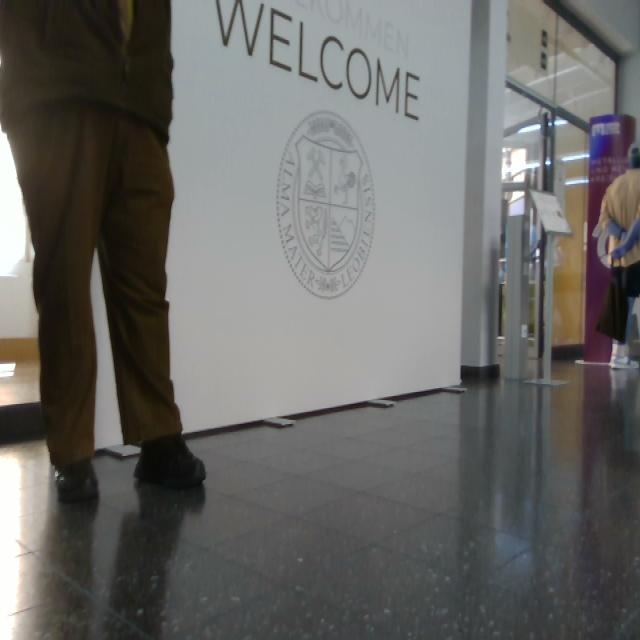light bulb: (276, 110, 376, 300), (596, 220, 623, 269)
person: (1, 1, 207, 505), (598, 143, 640, 371)
tiled floor: (1, 356, 640, 638)
